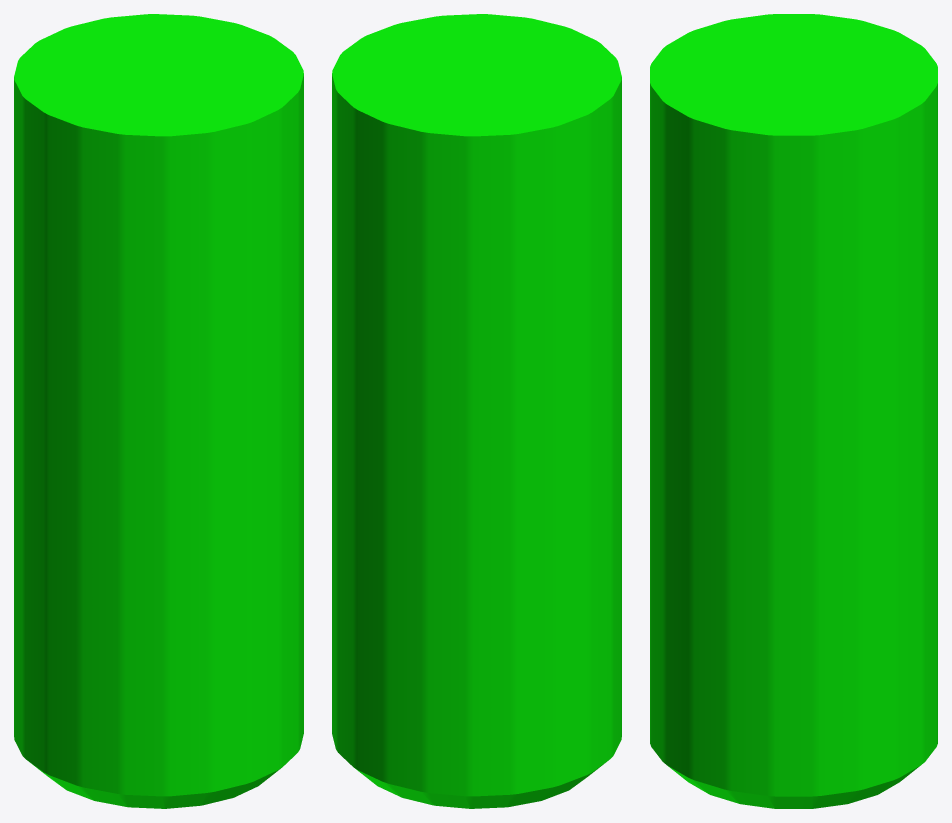
File: leftleg.obj
3 views of the same model, side by side, from view 1: azimuth 30°, elevation 25°; view 2: azimuth 150°, elevation 25°; view 3: azimuth 270°, elevation 25° (orthographic).
Parts seen in each view (by area): view 1: pCylinder2; view 2: pCylinder2; view 3: pCylinder2.
Boxes of the visible parts, x1=… form: pCylinder2: x1=14, y1=14, x2=303, y2=808; pCylinder2: x1=332, y1=14, x2=621, y2=808; pCylinder2: x1=650, y1=14, x2=937, y2=808.
Size of the model in its own units: 17.4 by 45.65 by 17.4.
